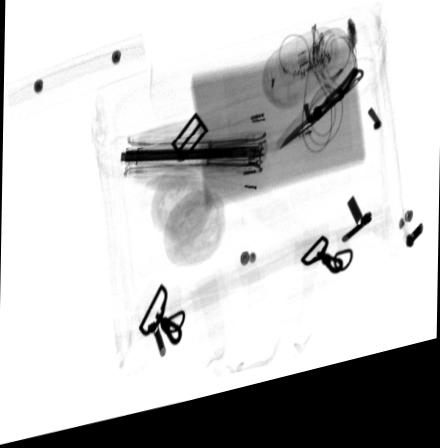Knife: (276, 83, 363, 164)
